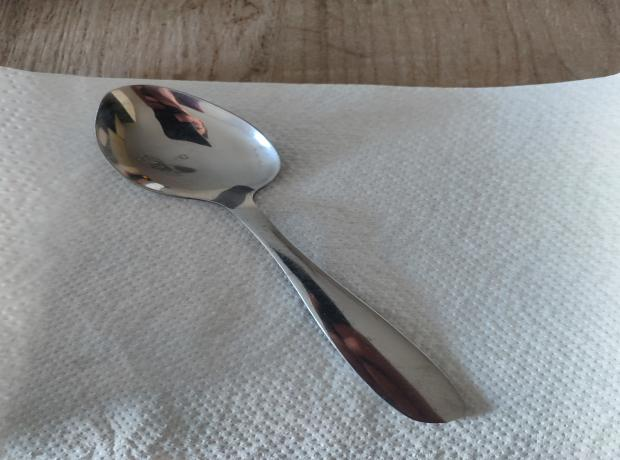metal: (101, 85, 472, 423)
